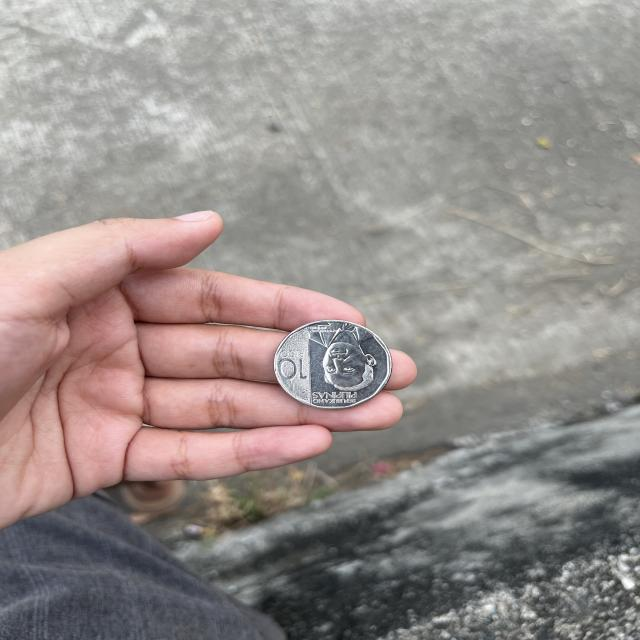10_New_Front: (275, 344, 314, 384)
